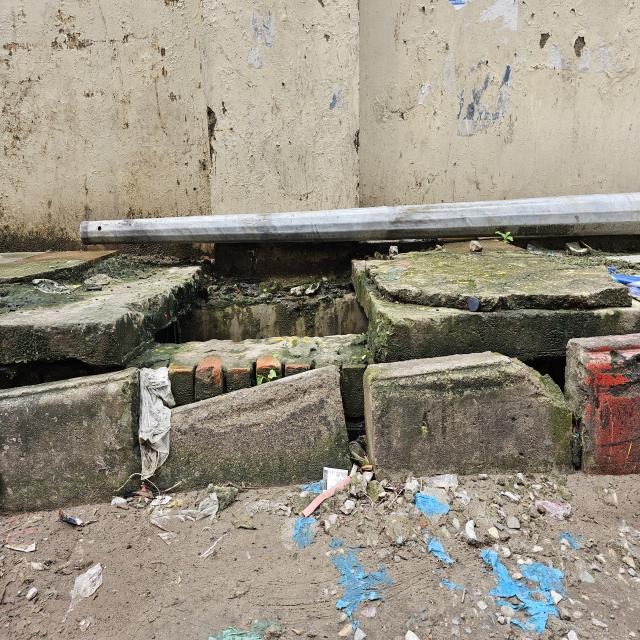drain_inlet: (151, 280, 376, 362)
